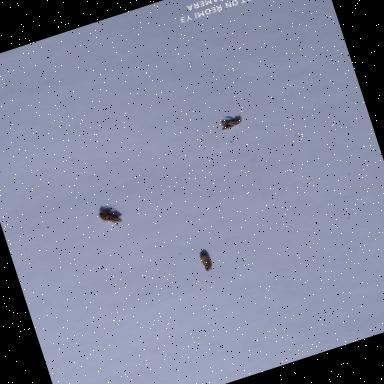pbw: (94, 203, 125, 231), (195, 248, 218, 274), (216, 112, 244, 133)
